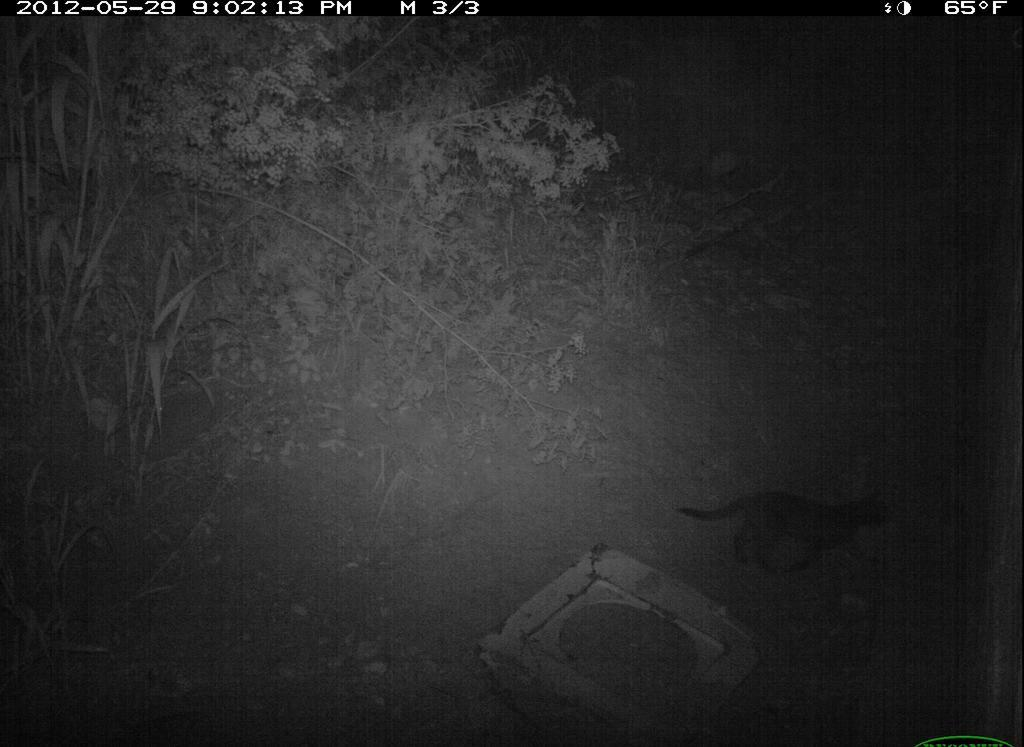cat: (671, 479, 895, 591)
